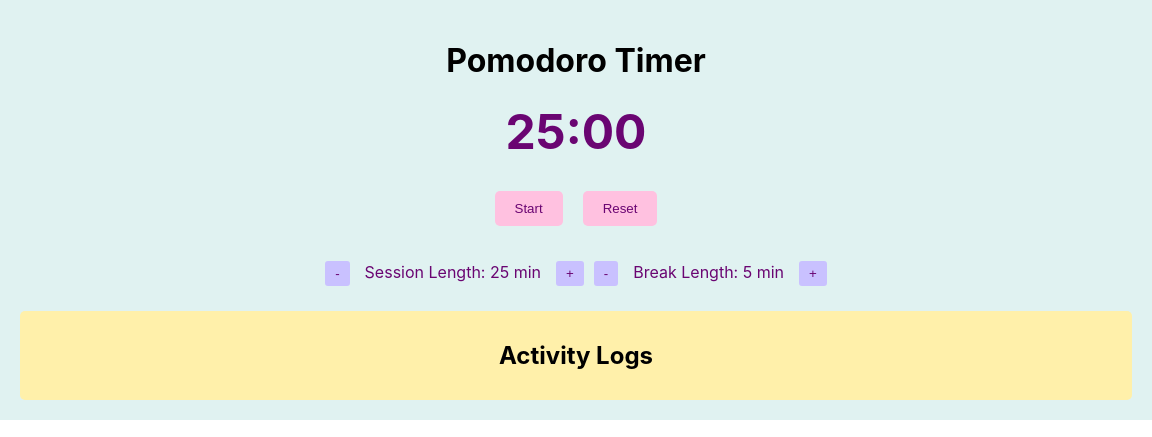
Test case: <App /> tests › adjusts the session and break lengths
Click the button with test id "session-increment" at (570, 273), box [556,261,584,286]
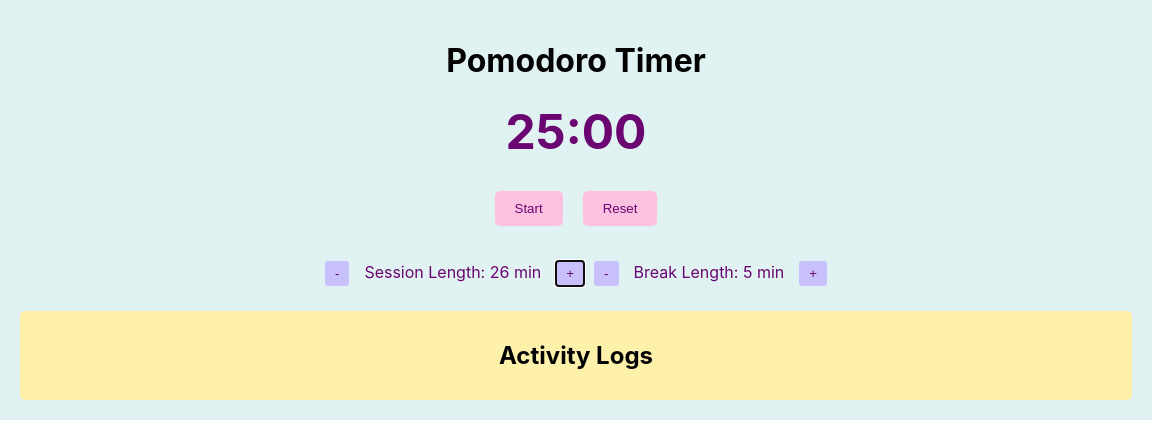
Now the text "Session Length: 26 min" is shown, box [364,262,541,282]
Click the button with test id "session-decrement" at (337, 273), box [325,261,349,286]
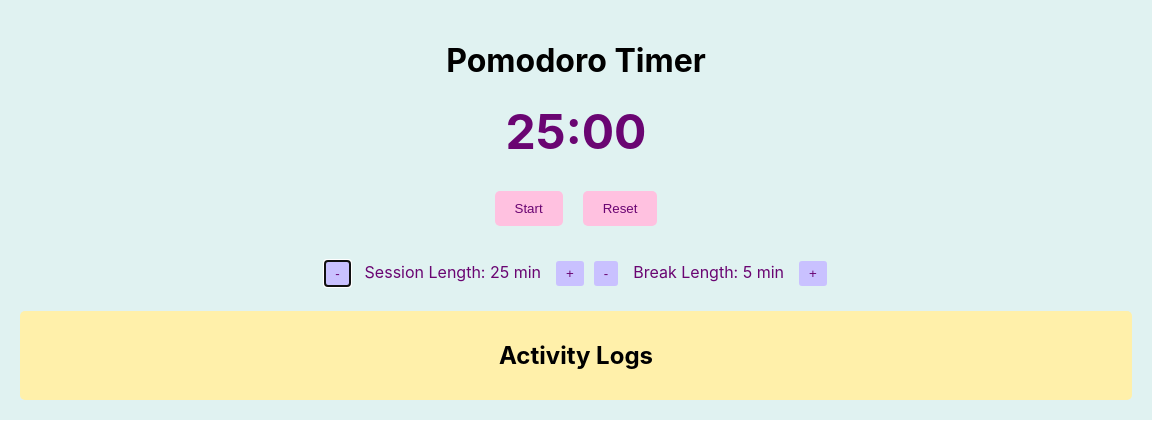
Now the text "Session Length: 25 min" is shown, box [365,262,541,282]
